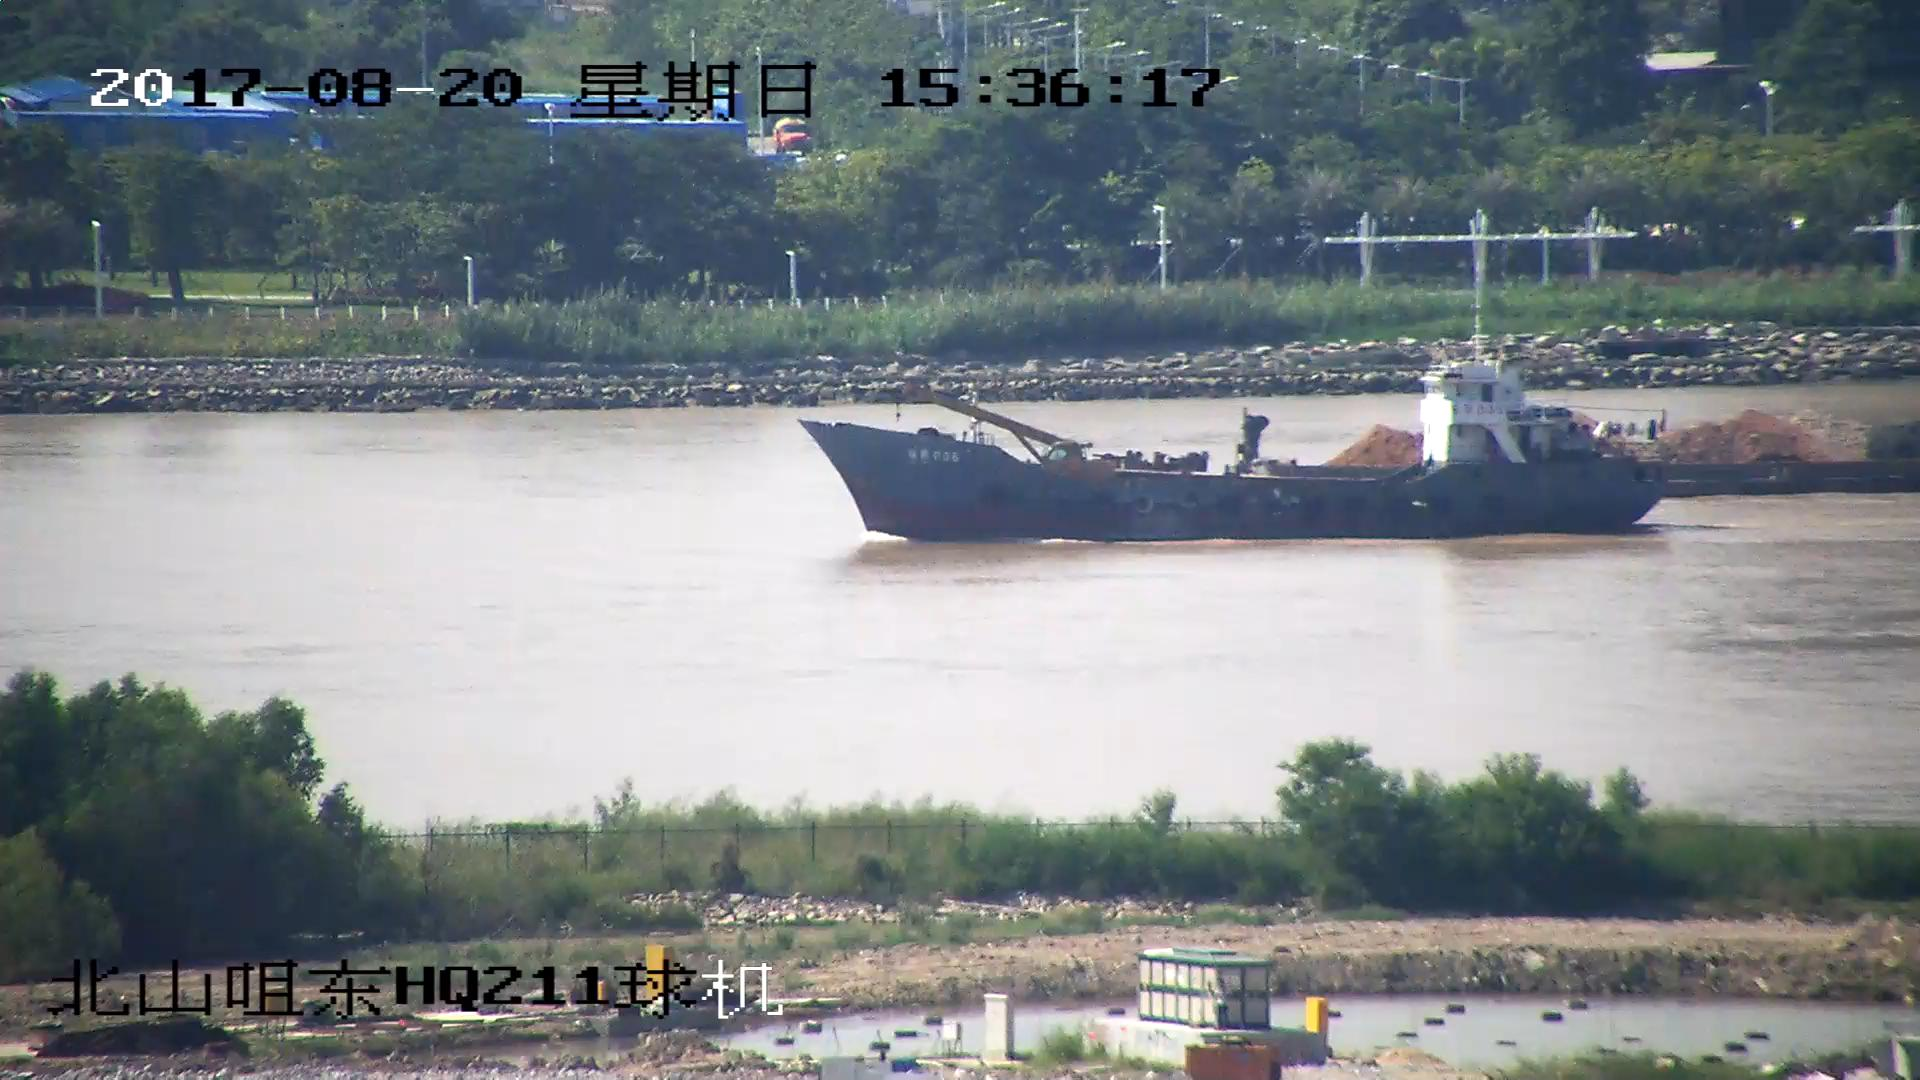general cargo ship: (795, 246, 1667, 542)
ore carrier: (1255, 403, 1920, 503)
